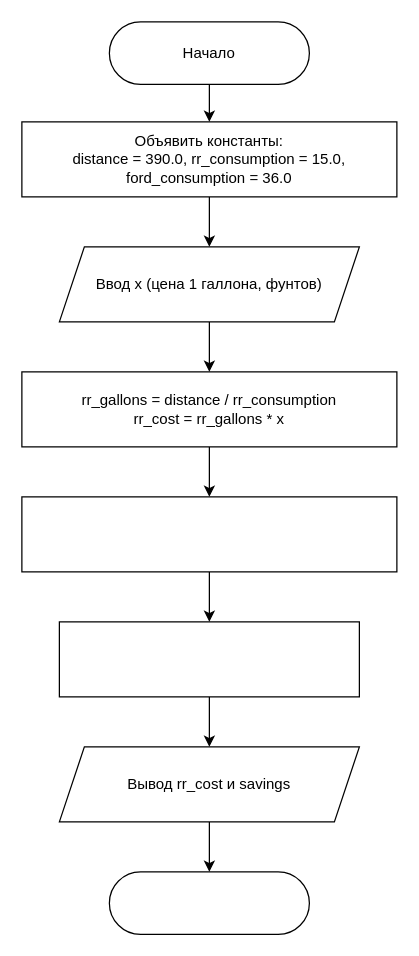
This 419x956 diagram has some shape labels left out. The box of each missing label's shape, as (x1, y1, x2, y2) in pixels:
ford_gallons = distance / ford_consumption ford_cost = ford_gallons * x: (21, 496, 397, 572)
savings = rr_cost - ford_cost: (58, 621, 359, 697)
Конец: (108, 871, 309, 934)
